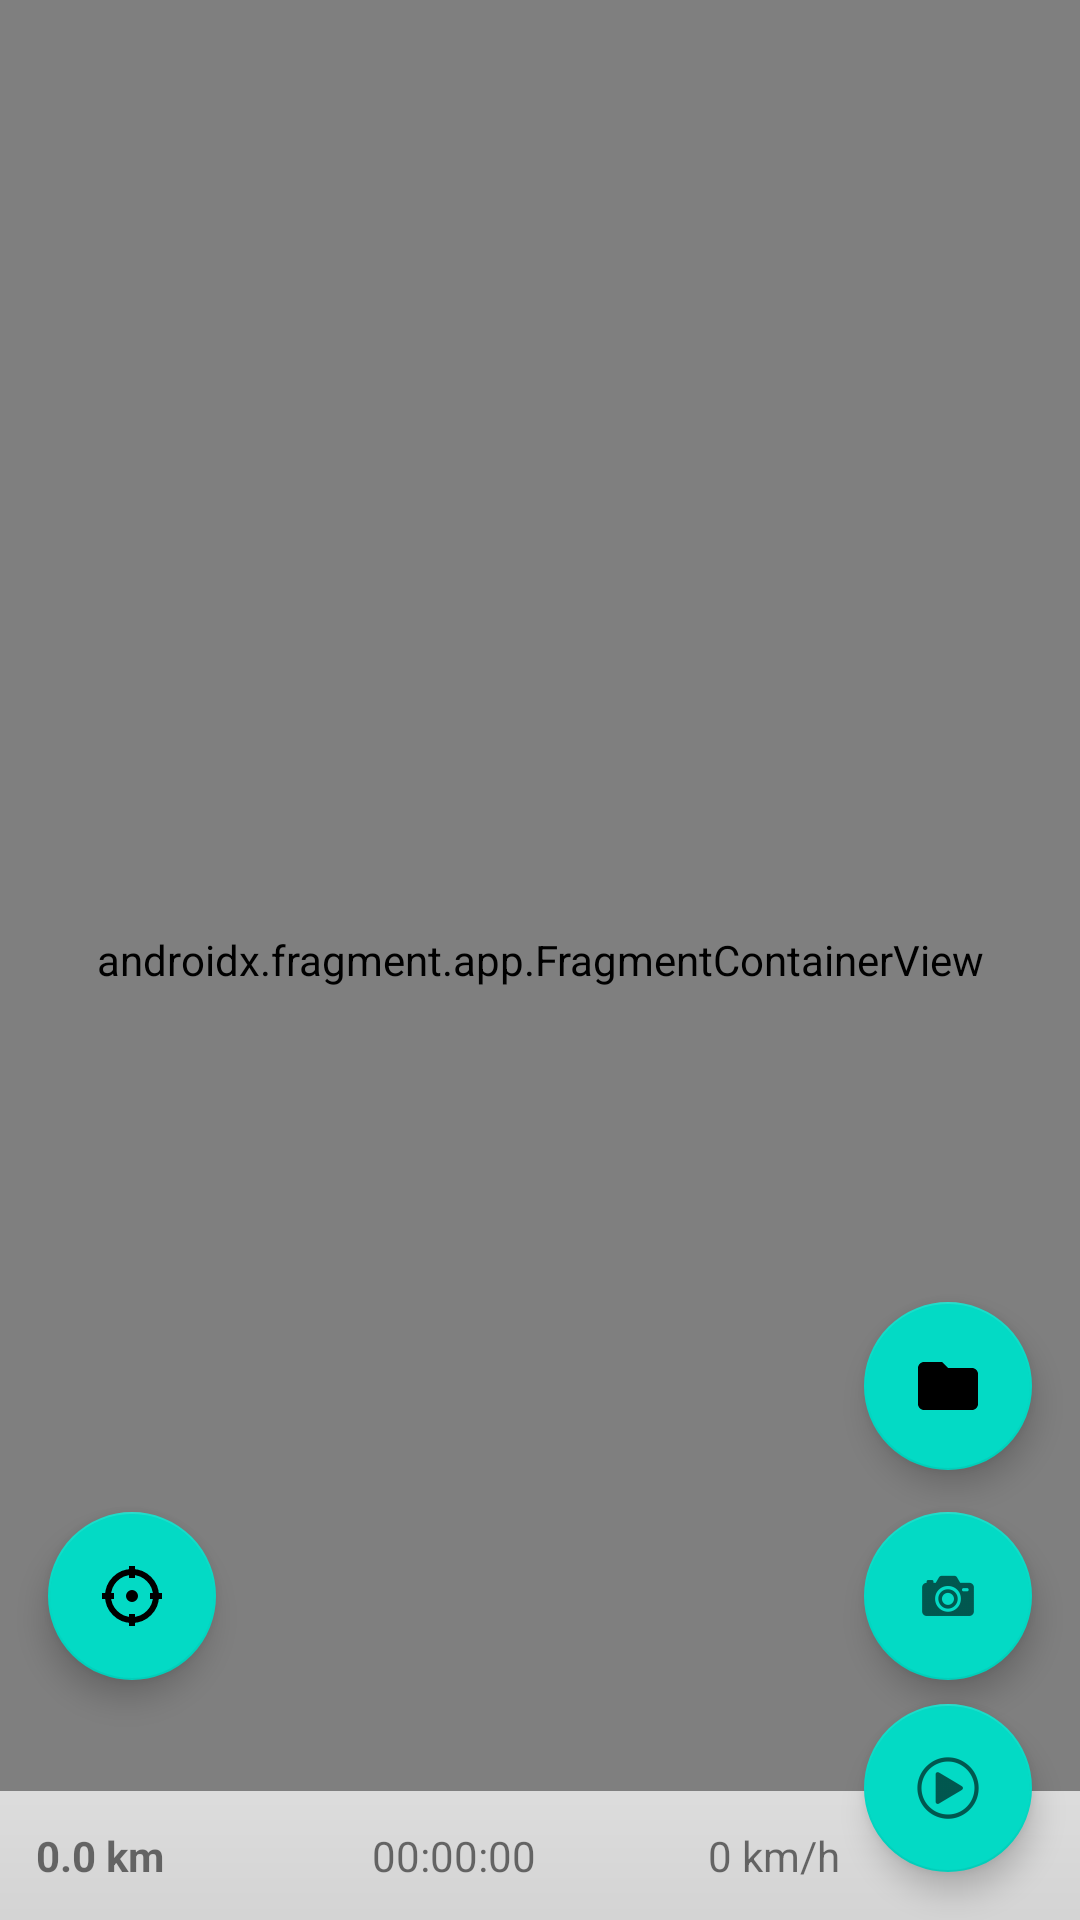

Point at icon controls on the screen. Image size 1080 × 1920, points as point (x, y).
camera: point (948, 1596)
folder: point (948, 1386)
play: point (948, 1788)
現在地へ移動: point (132, 1596)
